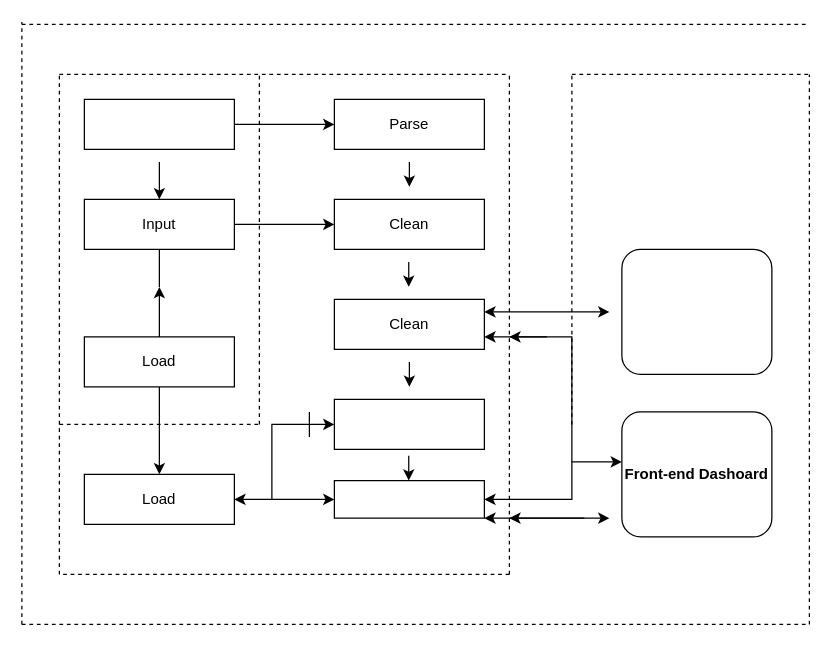
This 833x648 diagram has some shape labels left out. Here are the shapes that lost their labels. From the top down, the centre of each, then its label:
At (x=158, y=123): "xML Data".
At (x=696, y=311): "FastAPI Backend".
At (x=408, y=423): "Categorize".
At (x=408, y=498): "sqlite dipeline".
